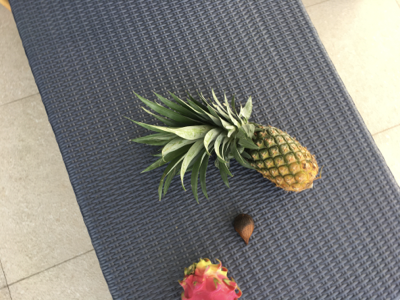dragon fruit: (181, 259, 242, 300)
pineapple: (130, 82, 319, 207)
snake fruit: (232, 211, 255, 244)
